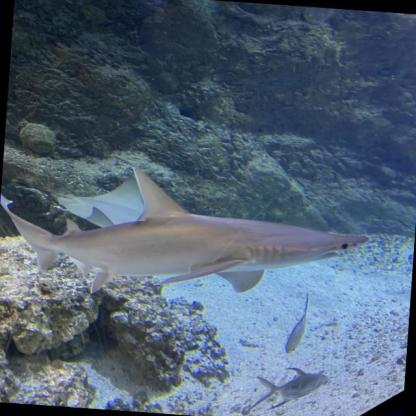fish: (249, 364, 329, 414), (284, 292, 310, 356)
shark: (0, 154, 376, 314)
